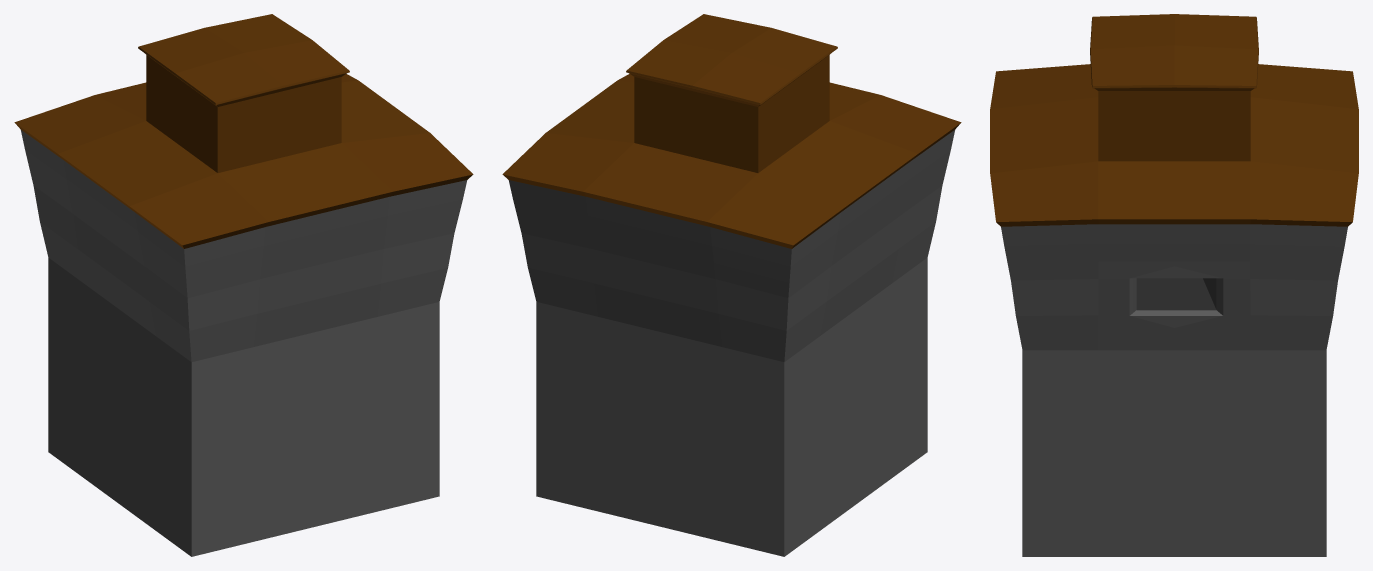
File: mailbox.fbx
3 views of the same model, side by side, from view 1: azimuth 30°, elevation 25°; view 2: azimuth 150°, elevation 25°; view 3: azimuth 270°, elevation 25° (orthographic). The views are drawn at different scales.
Parts seen in each view (by area): view 1: Cube, Cube.001; view 2: Cube, Cube.001; view 3: Cube, Cube.001, Cube.002.
Part boxes in pixels (bbox=[...]): Cube: bbox=[21, 130, 467, 556]; Cube.001: bbox=[14, 14, 473, 248]; Cube: bbox=[508, 130, 954, 556]; Cube.001: bbox=[502, 14, 961, 248]; Cube: bbox=[1001, 224, 1347, 556]; Cube.001: bbox=[990, 14, 1358, 226]; Cube.002: bbox=[1136, 278, 1216, 310].
Size of the model in its own units: 243 by 325 by 243.
